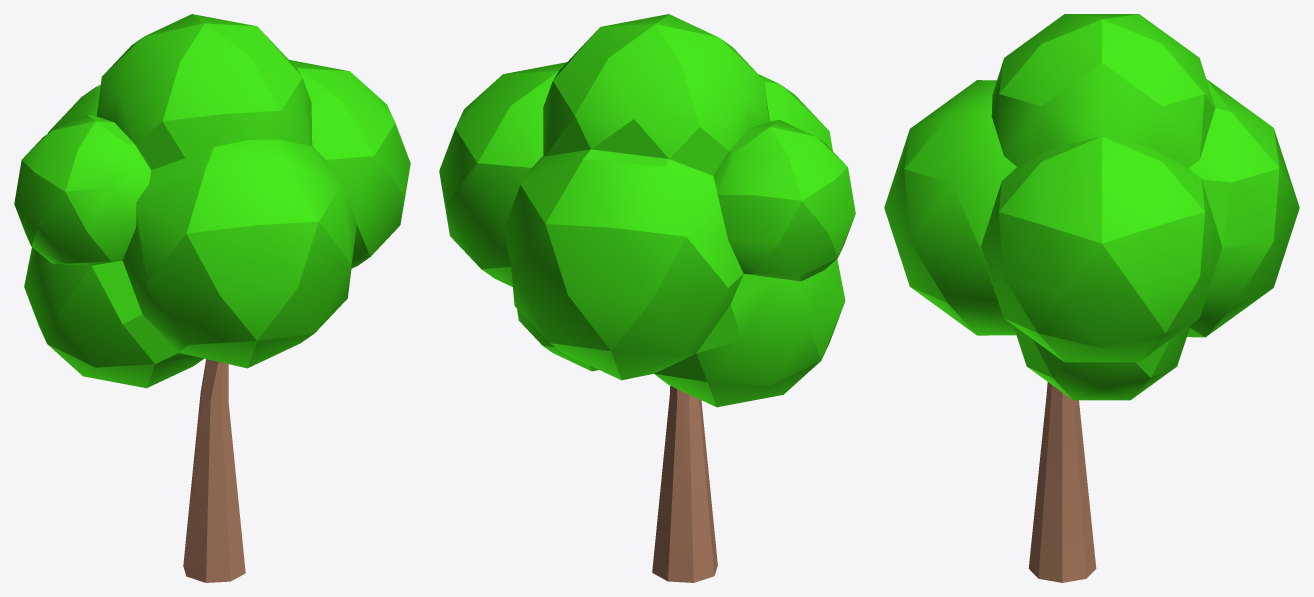
Rendered from Arvore1.fbx.
The picture shows the model from 3 angles, left to right: view 1: azimuth 30°, elevation 25°; view 2: azimuth 150°, elevation 25°; view 3: azimuth 270°, elevation 25°; orthographic projection. The views are drawn at different scales.
Parts seen in each view (by area): view 1: Arvore1; view 2: Arvore1; view 3: Arvore1.
Part boxes in pixels (left/top/right/bottom): Arvore1: left=14, top=14, right=410, bottom=582; Arvore1: left=439, top=14, right=855, bottom=582; Arvore1: left=884, top=14, right=1299, bottom=582.
Size of the model in its own units: 649 by 899 by 611.
